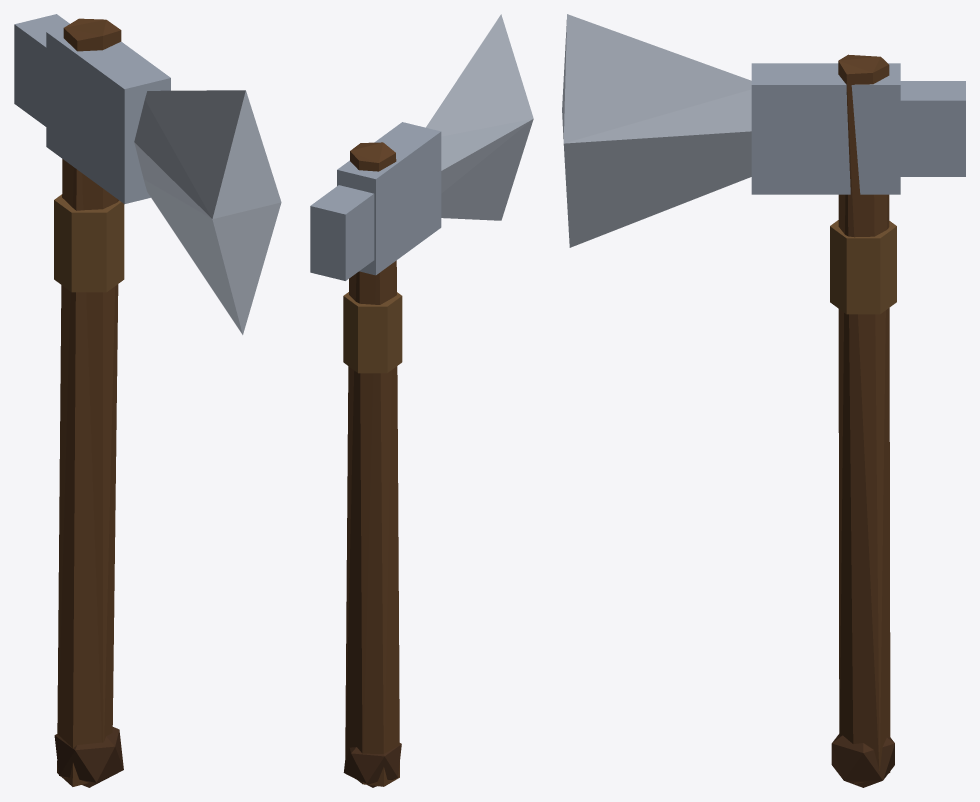
File: Axe.obj
3 views of the same model, side by side, from view 1: azimuth 30°, elevation 25°; view 2: azimuth 150°, elevation 25°; view 3: azimuth 270°, elevation 25° (orthographic). The views are drawn at different scales.
Parts seen in each view (by area): view 1: Axe; view 2: Axe; view 3: Axe.
Part boxes in pixels (<box>): Axe: <box>14,14,281,787</box>; Axe: <box>310,14,533,787</box>; Axe: <box>562,14,965,787</box>.
Size of the model in its own units: 0.2899 by 3.21 by 1.52.
